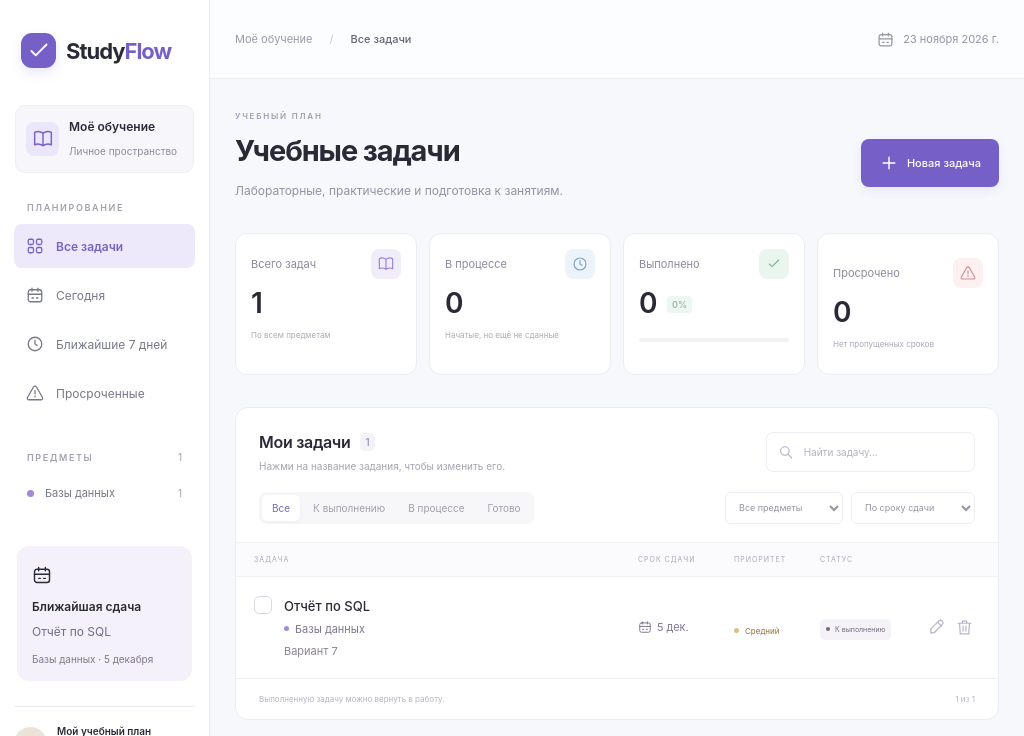
Работа с заданиями › отменяет удаление, затем удаляет последнюю задачу предмета и сбрасывает фильтр
The image size is (1024, 736).
Expected: the button "Отчёт по SQL" is shown, top-left (284, 595), bottom-right (370, 617)
Select "Базы данных" in the dropdown named "Фильтр по предмету" at {"x": 784, "y": 508}, box top-left (725, 492), bottom-right (843, 524)
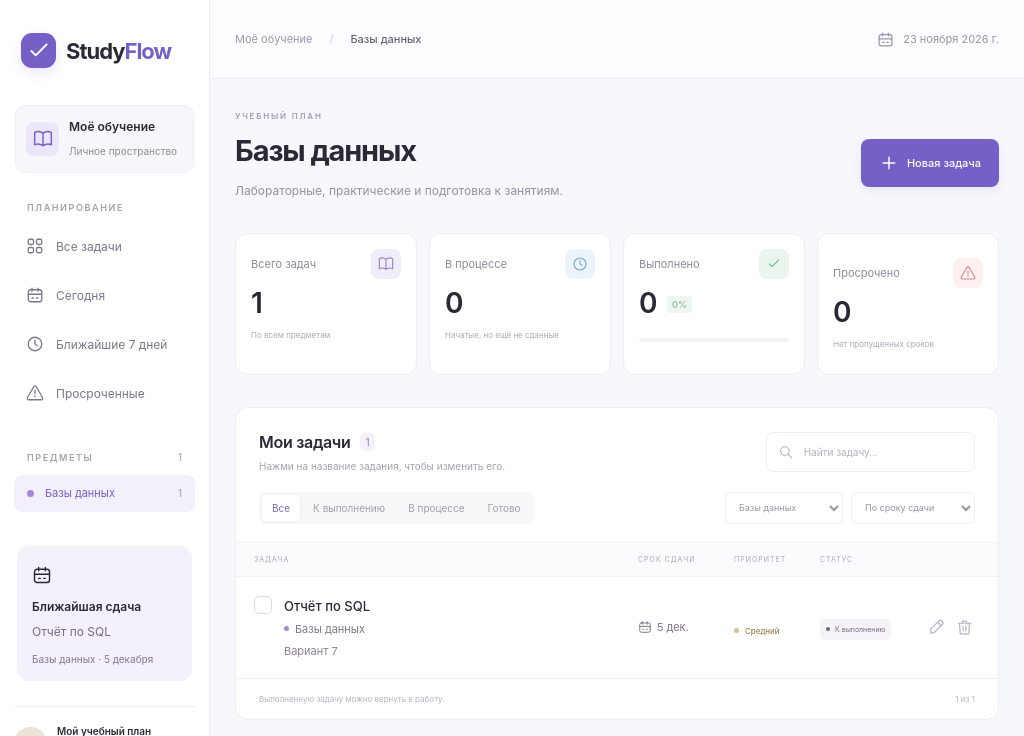
Click the button named "Удалить: Отчёт по SQL" at {"x": 964, "y": 628}, box top-left (951, 614), bottom-right (978, 641)
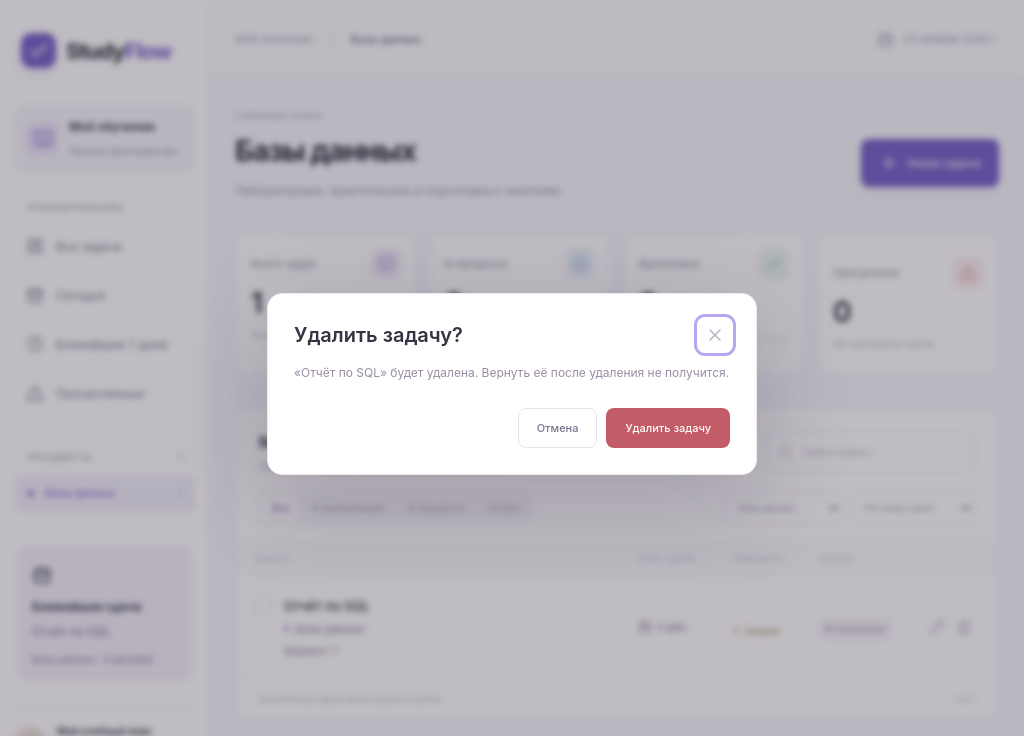
Click the button "Отмена" at {"x": 558, "y": 428}, box top-left (518, 408), bottom-right (598, 448)
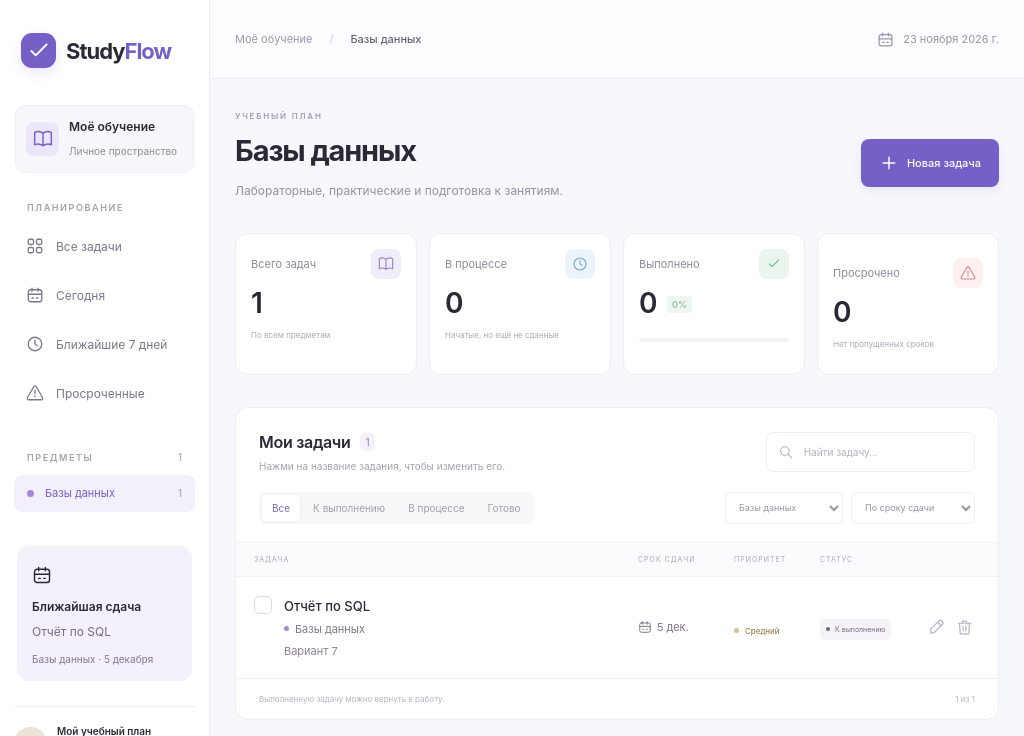
Click the button named "Удалить: Отчёт по SQL" at {"x": 964, "y": 628}, box top-left (951, 614), bottom-right (978, 641)
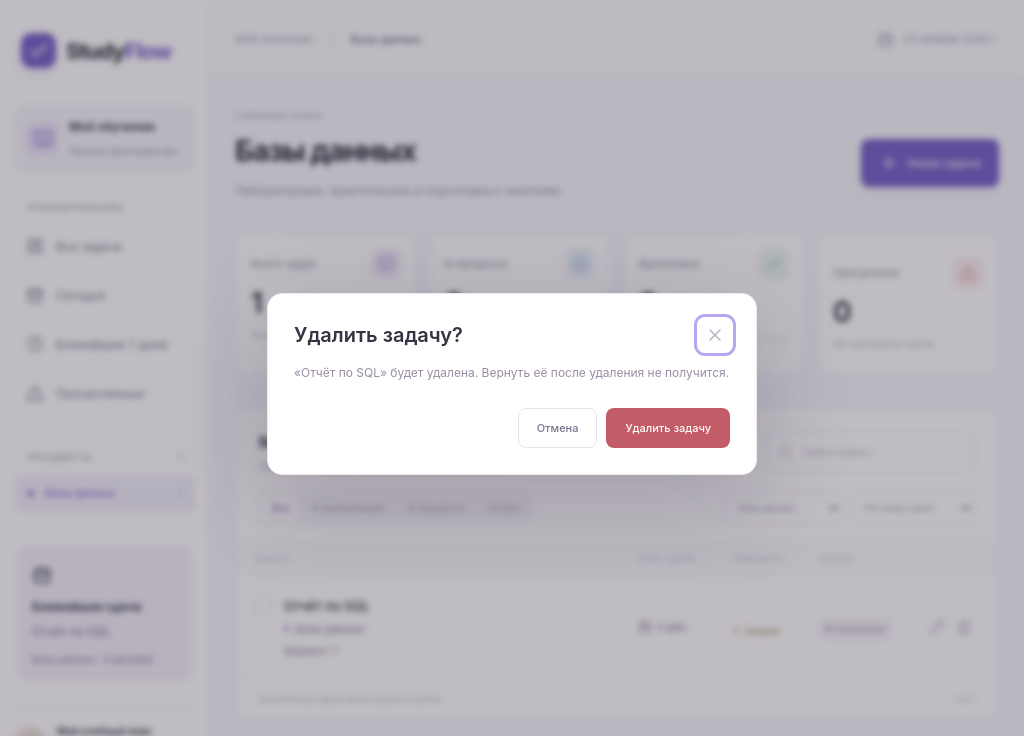
Click the button "Удалить задачу" at {"x": 668, "y": 428}, box top-left (606, 408), bottom-right (730, 448)
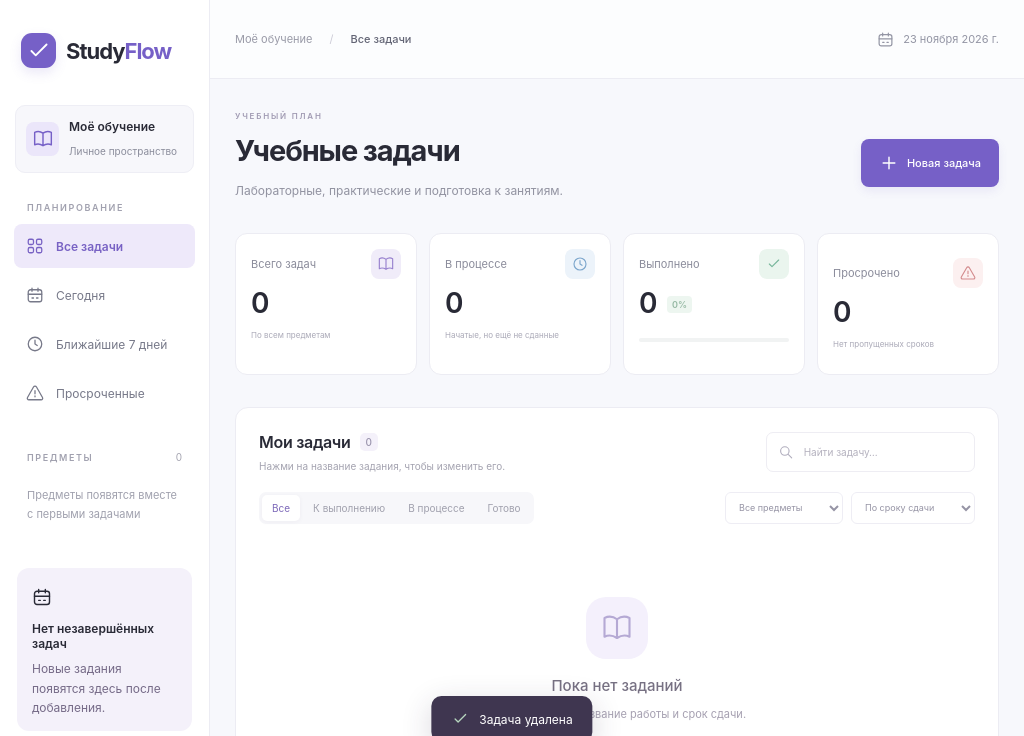
Expected: the heading "Пока нет заданий" is shown, top-left (551, 676), bottom-right (682, 695)
